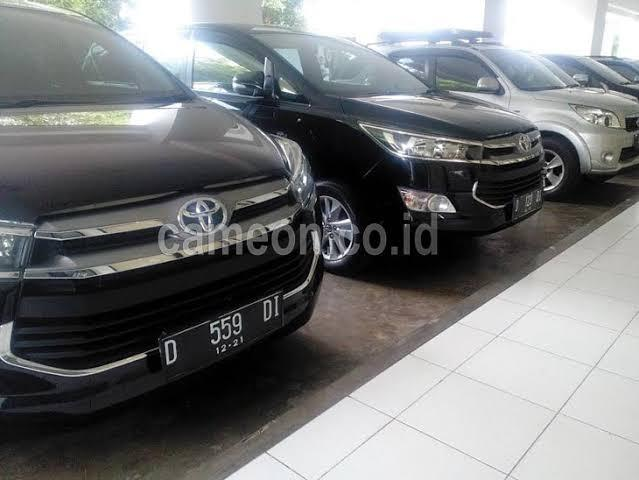plate: (161, 290, 285, 383)
